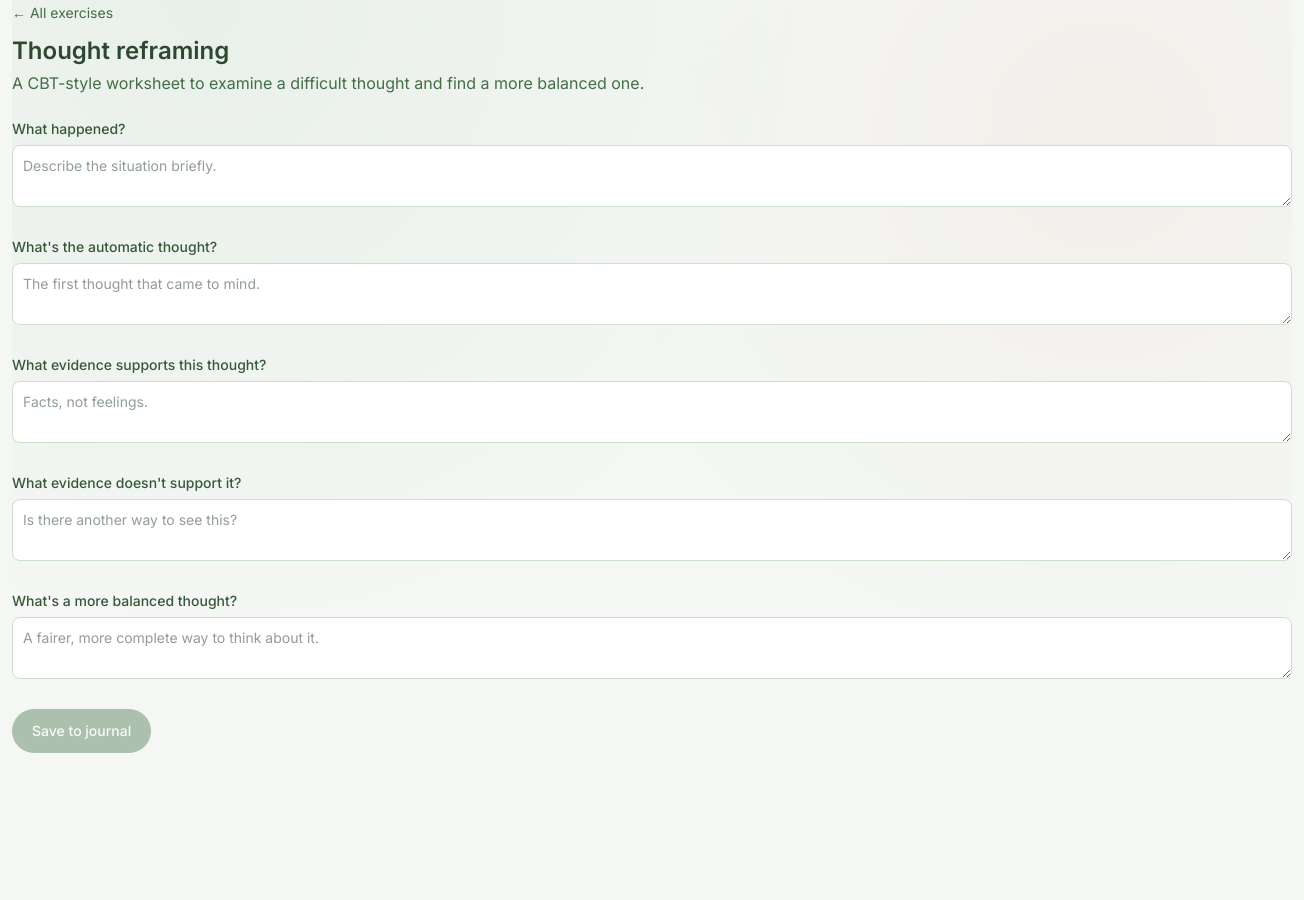
it: Reframe exercise › saves the entry and shows confirmation
In the text box labelled "What happened?": {"x": 652, "y": 176} [12,145,1292,207], type "Missed a deadline"
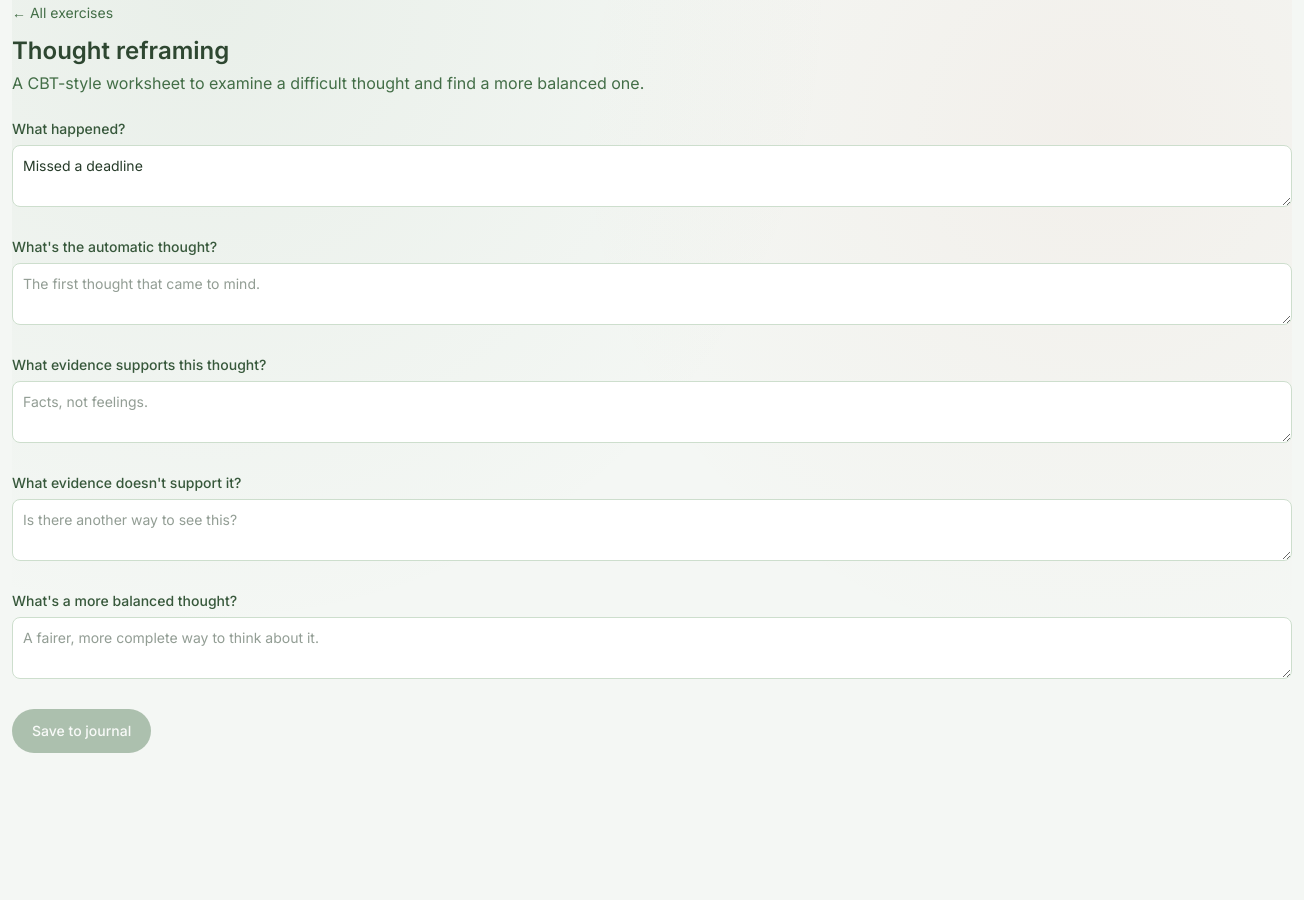
In the text box labelled "What's the automatic thought?": {"x": 652, "y": 294} [12,263,1292,325], type "I'm a failure"
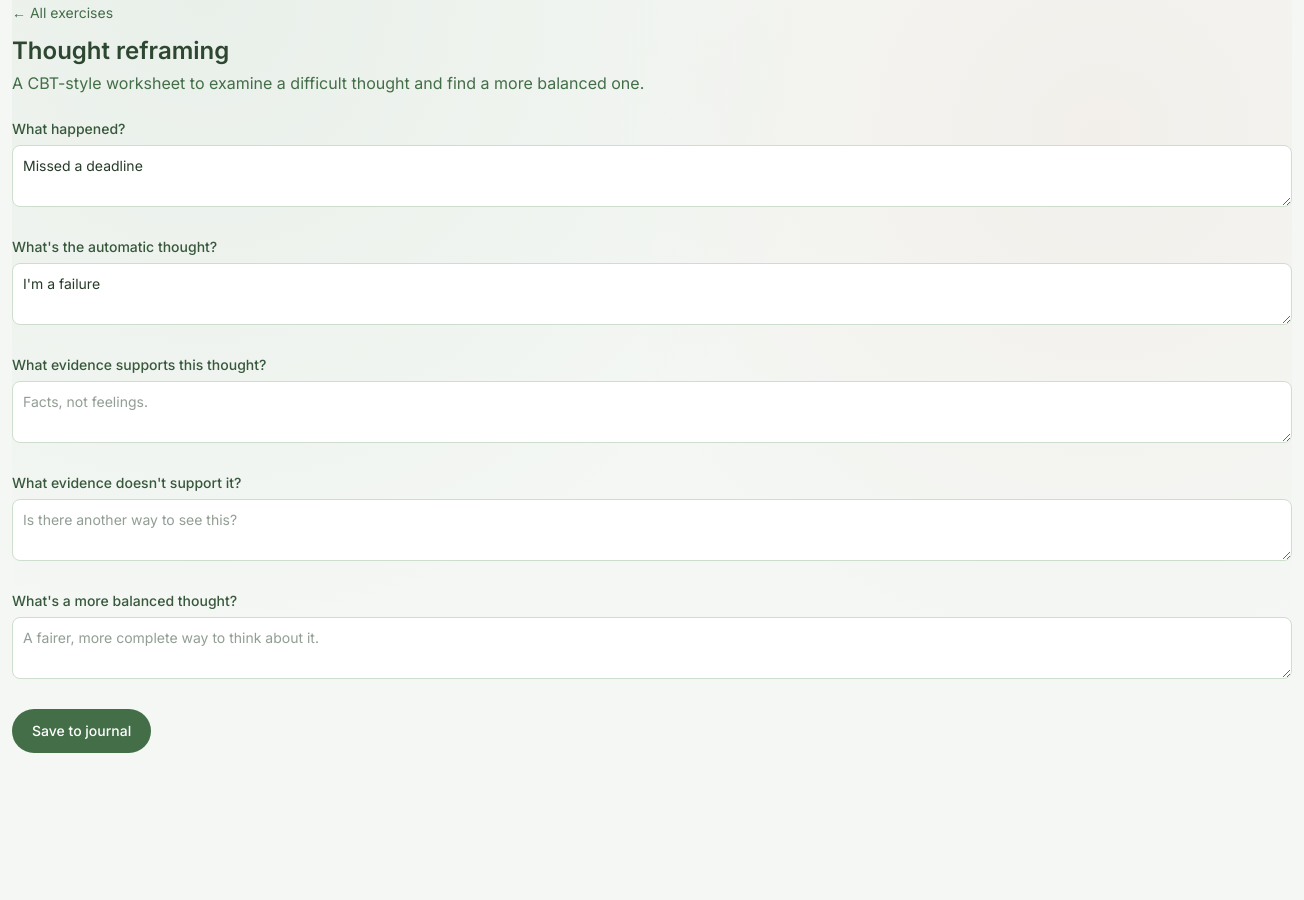
Click the button "Save to journal": {"x": 82, "y": 731} [12,709,151,753]
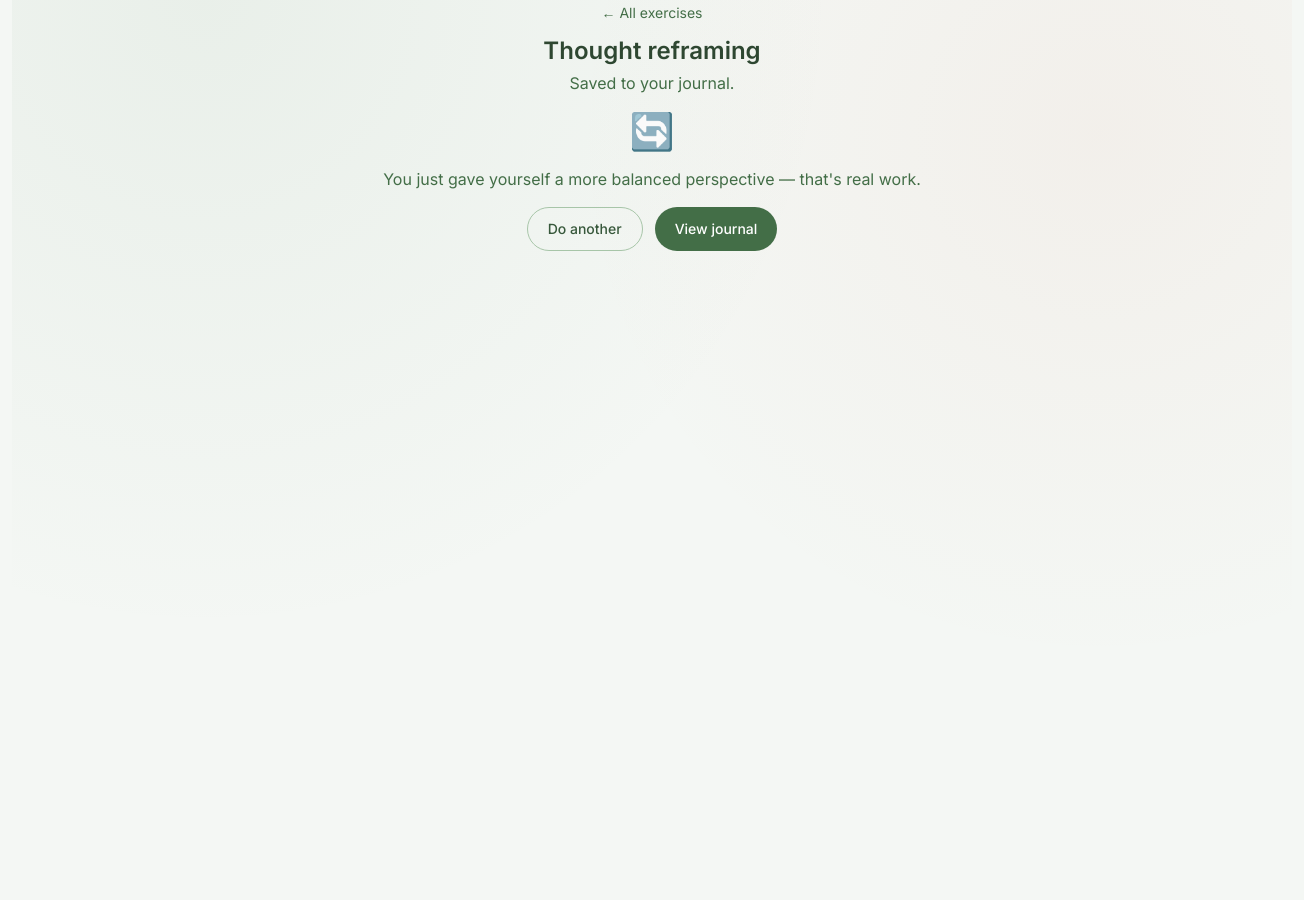
Expected: the text "Saved to your journal." is shown, [570,73,734,93]
